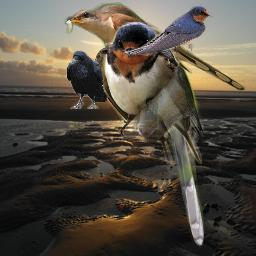Crow: (66, 50, 108, 109)
Cuckoo: (73, 2, 206, 248), (61, 9, 246, 91)
Swallow: (93, 22, 202, 165), (123, 5, 213, 56)
